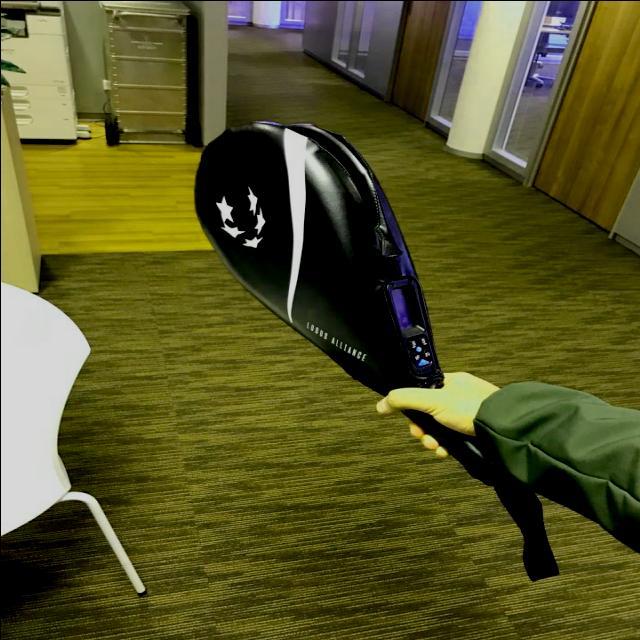paddle: (188, 114, 444, 396)
